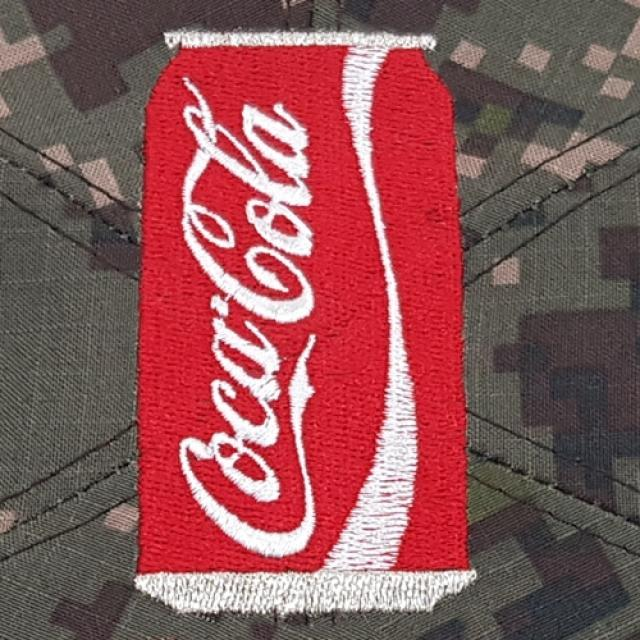coca-cola: (137, 23, 476, 624)
